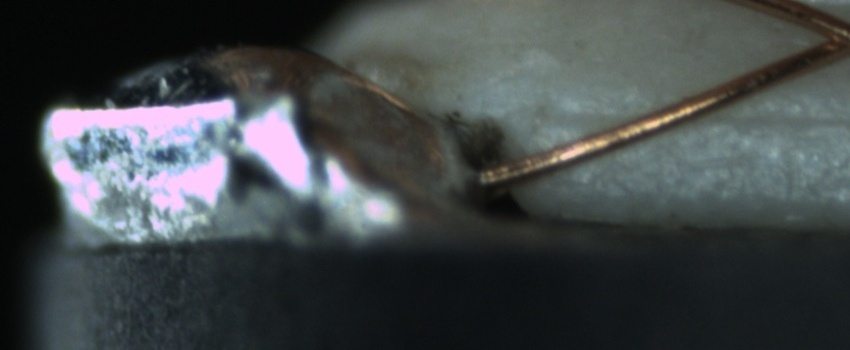CL: (795, 6, 850, 64)
DL: (536, 86, 850, 149)
